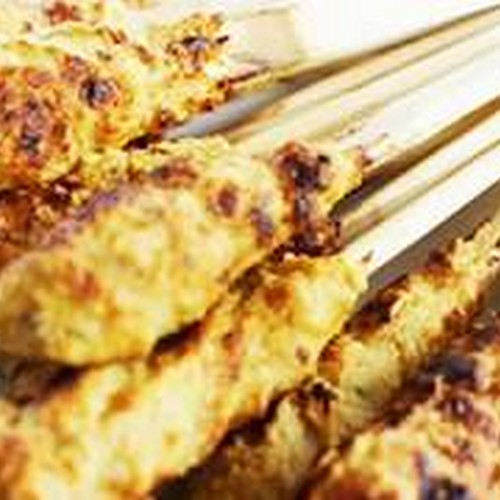sate languan: (16, 137, 369, 389)
